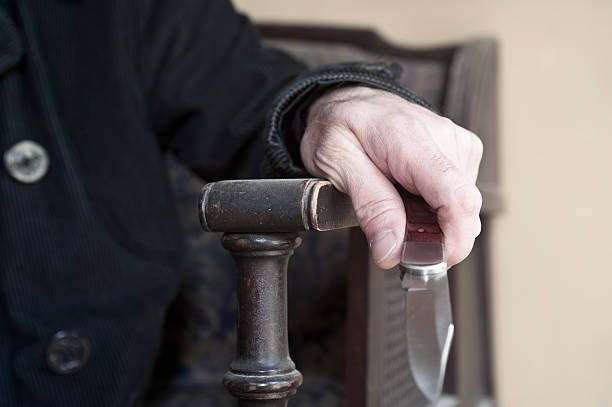knife: (401, 196, 453, 404)
